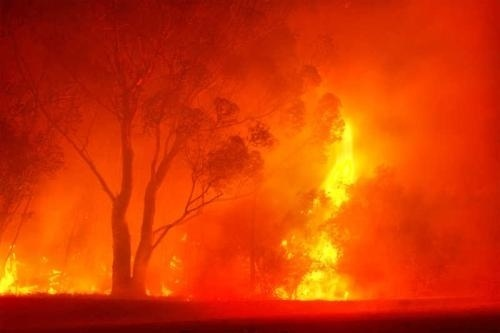fire: (276, 96, 381, 302)
